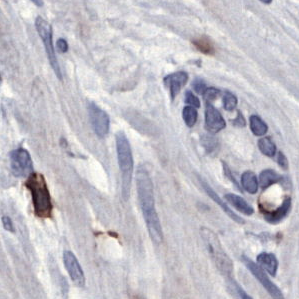Lymphocyte: (24, 169, 53, 220)
